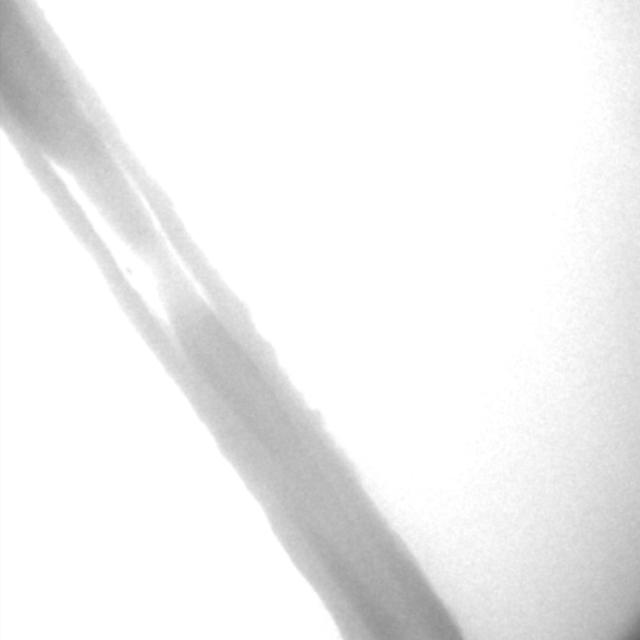unfused: (39, 149, 216, 338)
